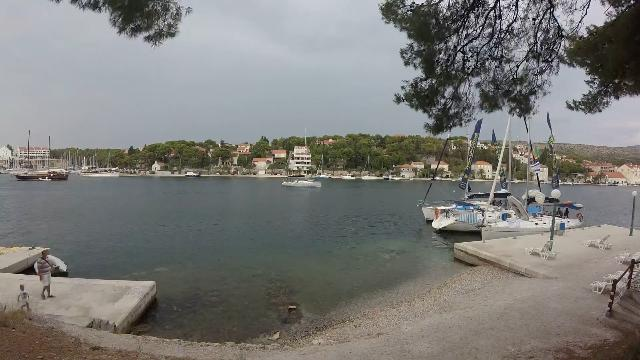Freighter: (5, 160, 76, 182)
Sailboat: (279, 174, 327, 190)
